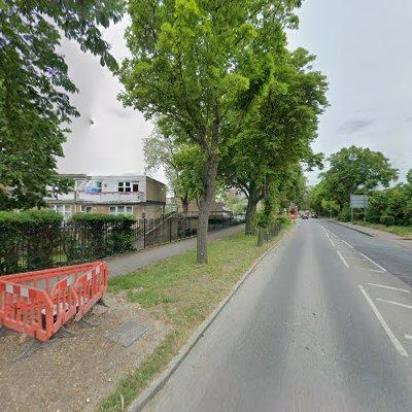moving-bus: (288, 202, 298, 222)
